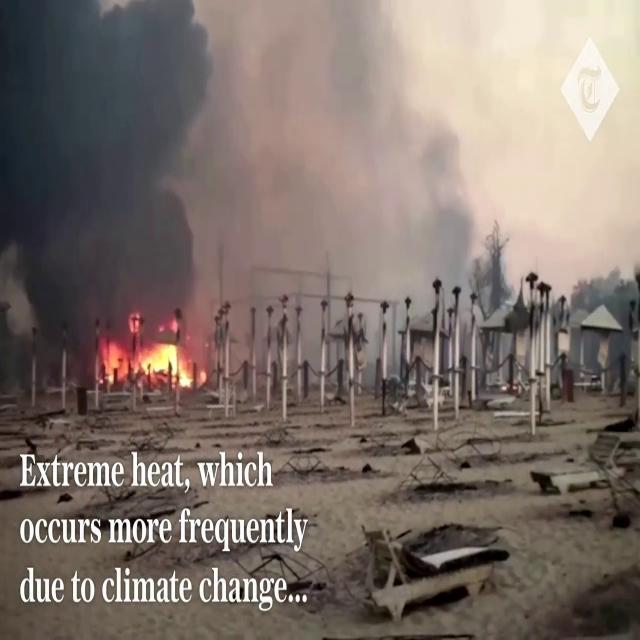Fire: (96, 324, 202, 392)
Smoke: (210, 0, 556, 383), (0, 1, 223, 343)
